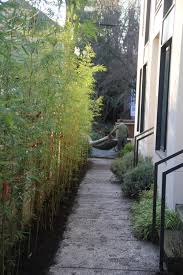bamboo: (3, 11, 58, 263), (63, 31, 79, 227), (82, 34, 97, 172)
